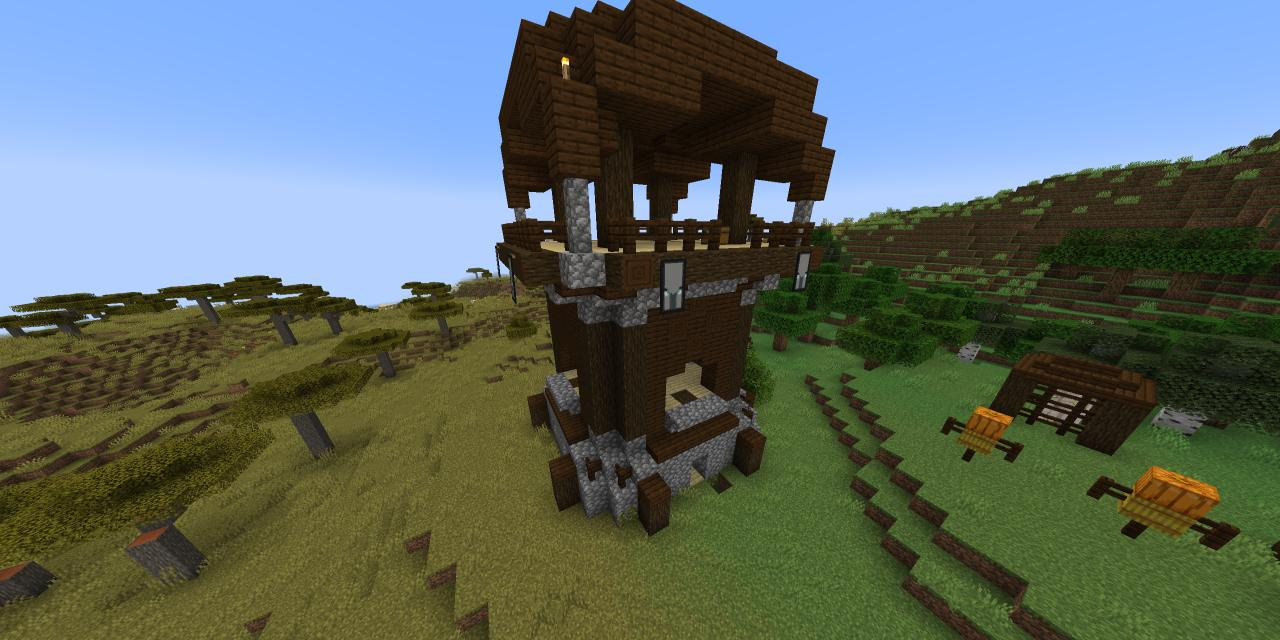pillager outpost: (486, 0, 843, 542)
